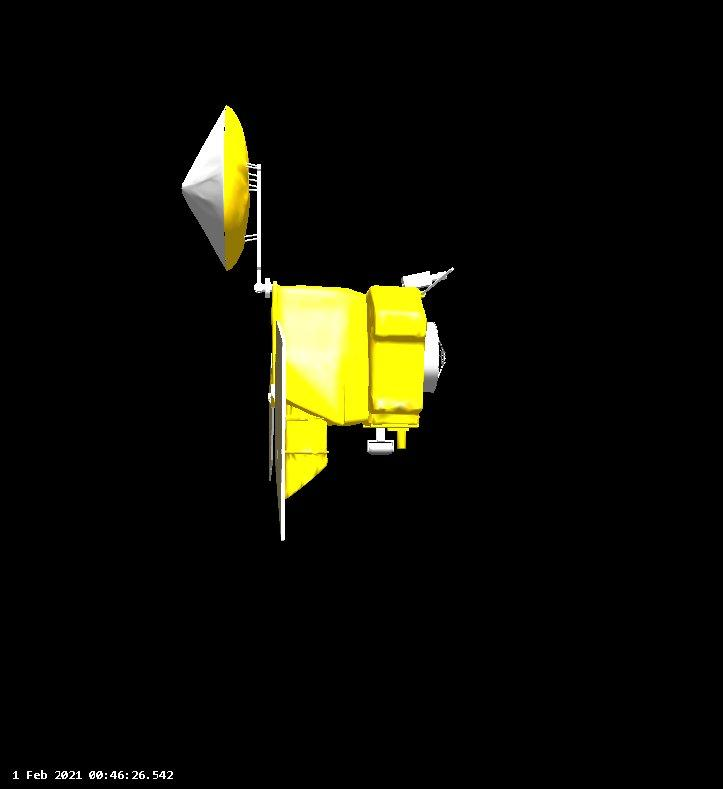antenna: (177, 100, 264, 277)
body: (259, 275, 434, 455)
solar: (267, 318, 294, 547)
